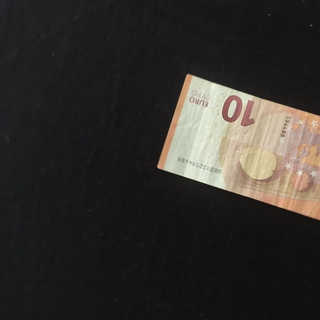10EUROBack: (156, 72, 320, 226)
